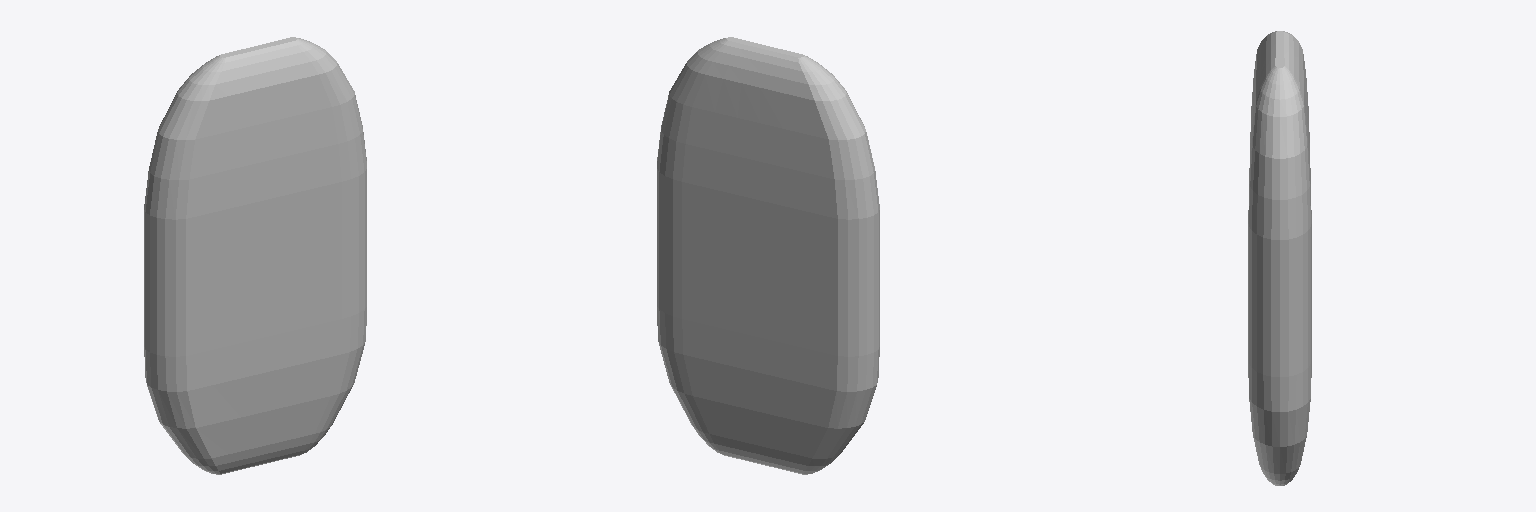
File: portalMesh.obj
3 renders of one model, left to right at view 1: azimuth 30°, elevation 25°; view 2: azimuth 150°, elevation 25°; view 3: azimuth 270°, elevation 25°, orthographic.
Parts seen in each view (by area): view 1: Sphere.003; view 2: Sphere.003; view 3: Sphere.003.
Boxes of the visible parts, x1,y1,x2,y2 form: Sphere.003: [144, 37, 366, 474]; Sphere.003: [657, 37, 879, 474]; Sphere.003: [1248, 31, 1311, 485].
Bounding box in the file's own units: 4.73 × 8.68 × 1.2.